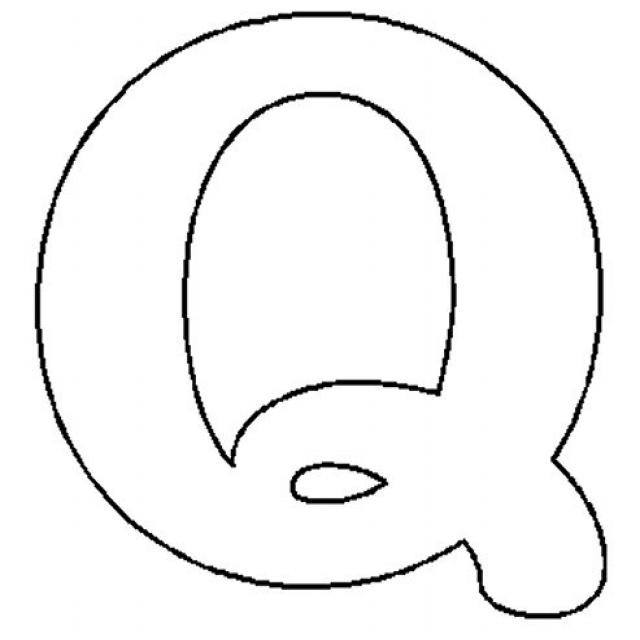Q: (14, 0, 626, 628)
